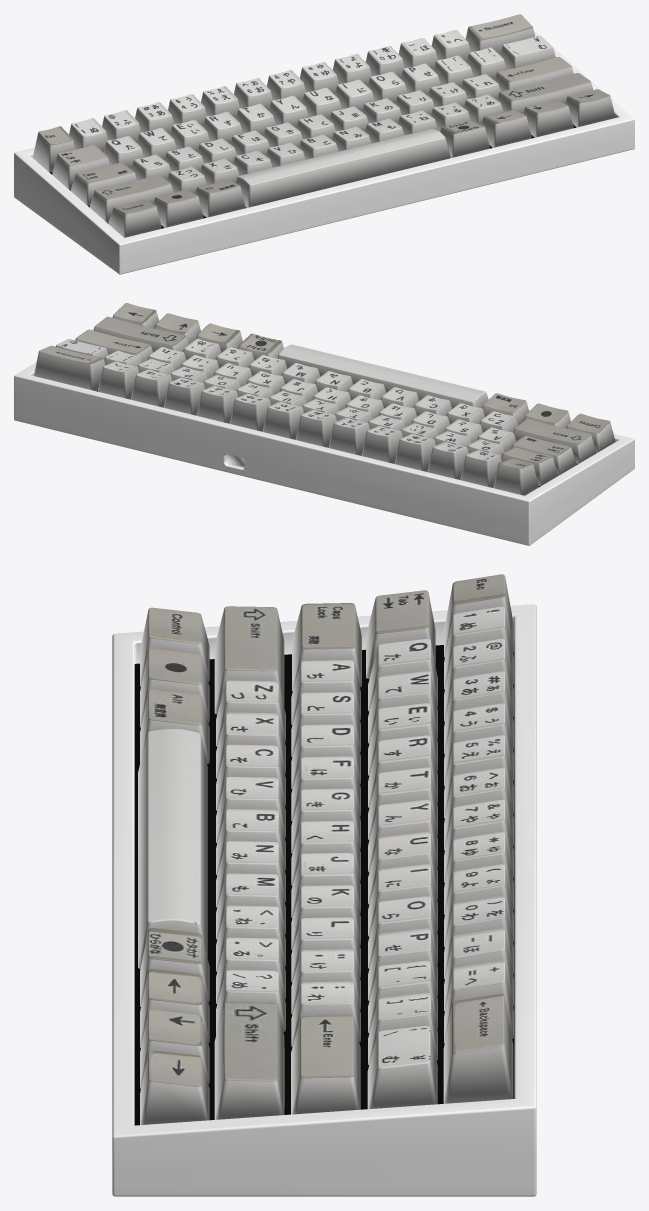
Rendered from mech-keyboard-transformed.glb.
3 renders of one model, top to bottom at view 1: azimuth 30°, elevation 25°; view 2: azimuth 150°, elevation 25°; view 3: azimuth 270°, elevation 25°, orthographic. The views are drawn at different scales.
Parts seen in each view (by area): view 1: keyboard; view 2: keyboard; view 3: keyboard.
Boxes of the visible parts, bbox=[...] form: keyboard: bbox=[14, 14, 634, 274]; keyboard: bbox=[14, 303, 634, 545]; keyboard: bbox=[112, 574, 536, 1196].
Size of the model in its own units: 0.2843 by 0.0358 by 0.1012.
Materials: 3 (1 with a texture image).
